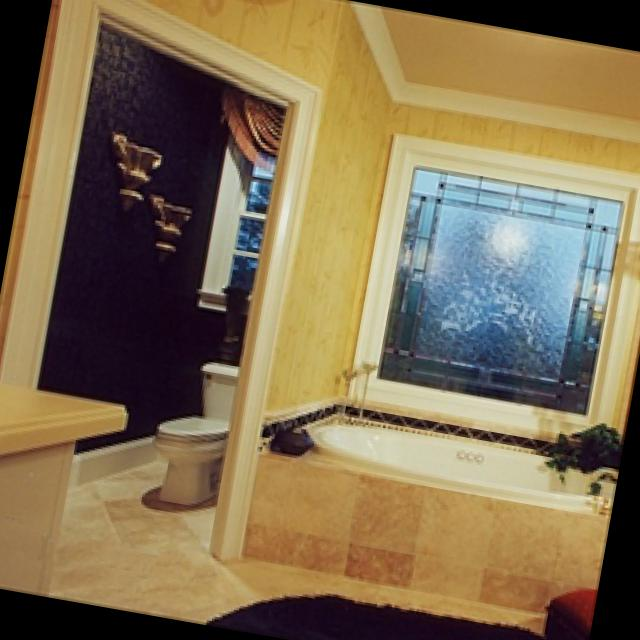2001: (346, 130, 640, 436), (193, 128, 268, 314)
bath occluded: (584, 466, 613, 510)
bathtub: (239, 409, 613, 608)
cabinet door: (0, 439, 76, 591)
candel: (325, 330, 352, 421)
candle holder: (352, 316, 379, 419)
ceiling beam: (375, 7, 640, 128)
counter bottom: (0, 378, 123, 451)
curtain crop: (217, 79, 279, 170)
door handle: (35, 22, 290, 582)
plant -x: (534, 418, 618, 477)
rug -partially obscured-: (204, 590, 548, 640)
toilet bowl: (150, 352, 237, 501)
vase -X: (111, 126, 160, 208), (214, 278, 245, 363), (152, 194, 190, 248)
